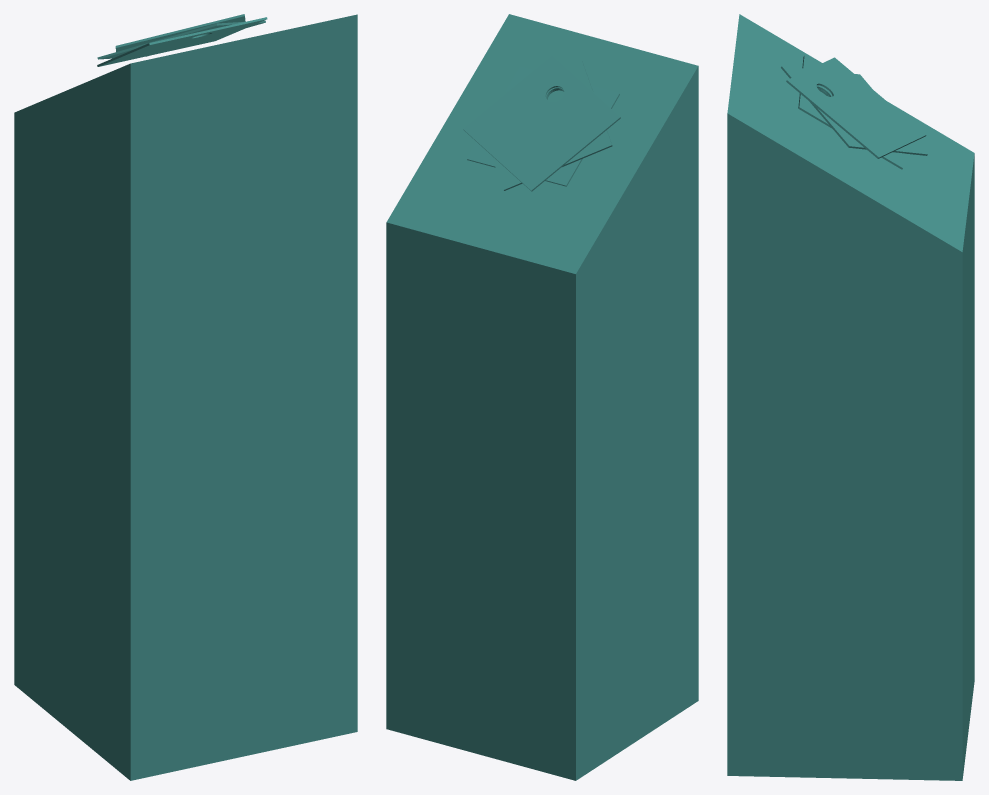
The model's file is PuzzleTelescopio.fbx.
3 renders of one model, left to right at view 1: azimuth 30°, elevation 25°; view 2: azimuth 150°, elevation 25°; view 3: azimuth 270°, elevation 25°, orthographic. The views are drawn at different scales.
Visible parts, largest first — view 1: Cube.006, Cube.007, Cube.009; view 2: Cube.006, Cube.009, Cube.008, Cube.007; view 3: Cube.006, Cube.009, Cube.008, Cube.007.
Boxes of the visible parts, x1,y1,x2,y2 form: Cube.006: (14, 14, 357, 780); Cube.007: (97, 17, 267, 66); Cube.009: (115, 14, 245, 51); Cube.006: (386, 14, 698, 780); Cube.009: (463, 55, 620, 191); Cube.008: (473, 60, 612, 190); Cube.007: (467, 67, 619, 186); Cube.006: (727, 14, 974, 780); Cube.009: (786, 57, 926, 158); Cube.008: (781, 66, 927, 155); Cube.007: (798, 55, 908, 169).
Size of the model in its own units: 61.03 by 181 by 61.03.
